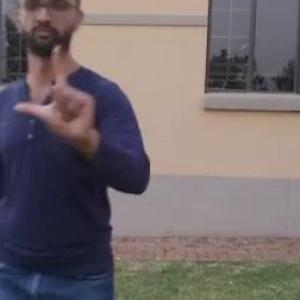land_hand: (12, 38, 105, 148)
